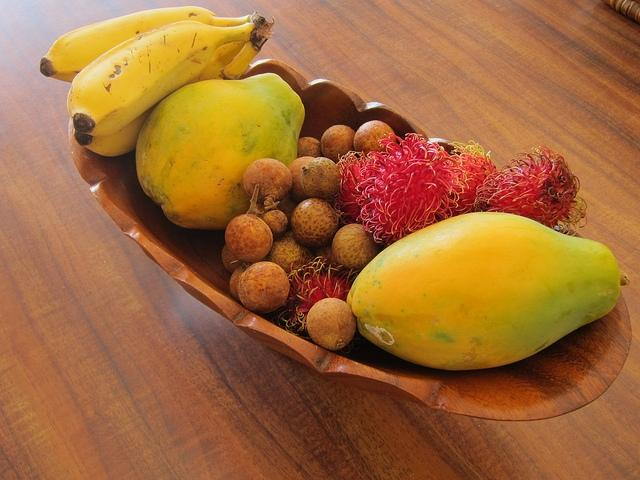banana: (67, 20, 256, 136), (73, 41, 246, 157), (39, 6, 258, 84)
